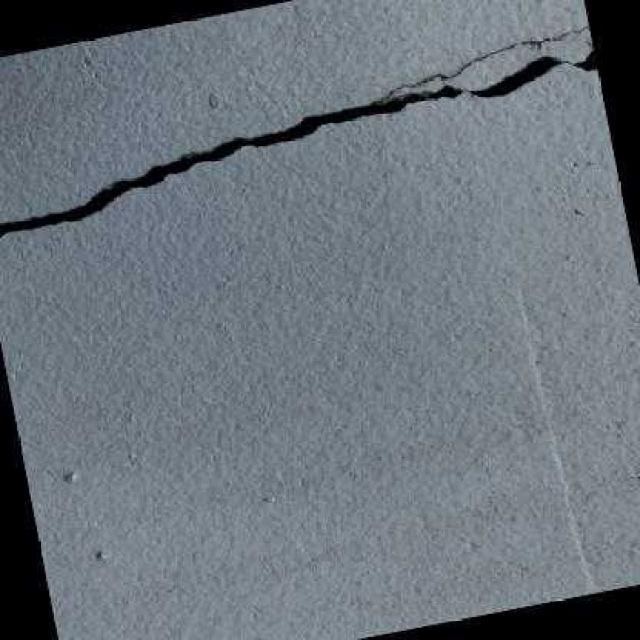D00: (0, 25, 597, 238)
